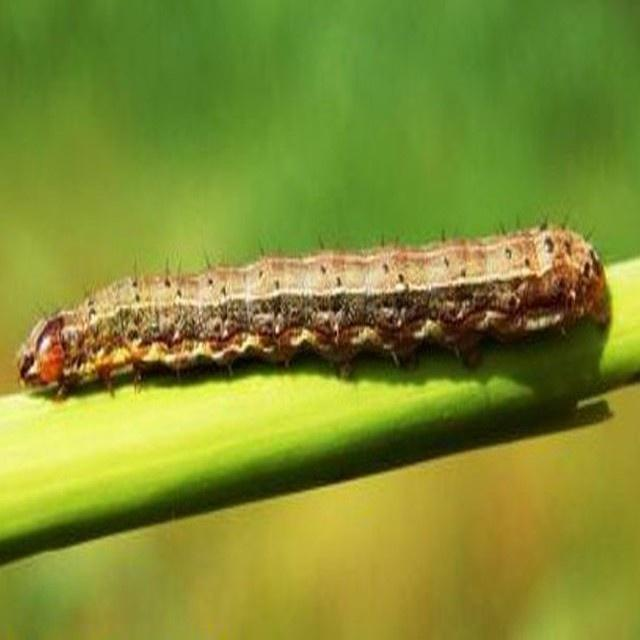gusano_cogollero: (12, 216, 612, 404)
